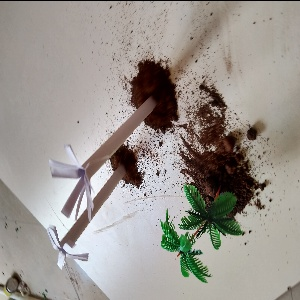plant: (156, 186, 247, 280)
weed: (31, 124, 143, 208), (33, 197, 148, 265)
